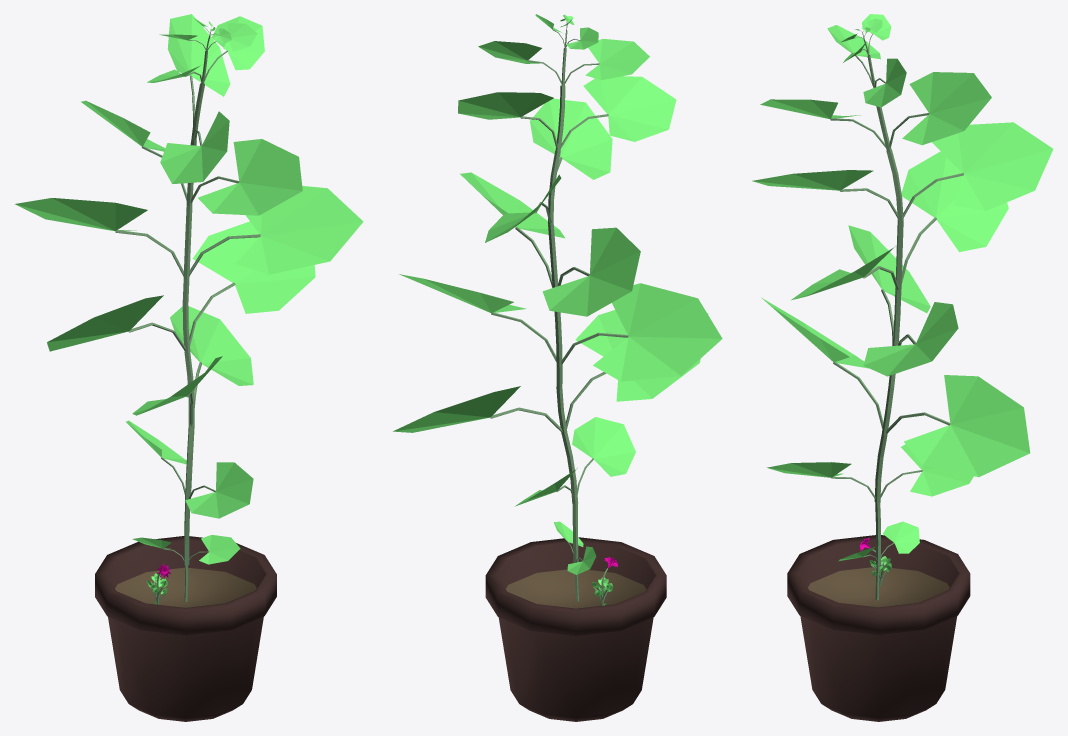
The model's file is PlantPot.glb.
The picture shows the model from 3 angles, left to right: view 1: azimuth 30°, elevation 25°; view 2: azimuth 150°, elevation 25°; view 3: azimuth 270°, elevation 25°; orthographic projection.
Parts seen in each view (by area): view 1: Newplan.002, Cylinder; view 2: Newplan.002, Cylinder; view 3: Newplan.002, Cylinder.
Part boxes in pixels (box(x1,y1,x2,y2)): Newplan.002: box(15, 14, 363, 601); Cylinder: box(95, 536, 276, 721); Newplan.002: box(393, 14, 722, 601); Cylinder: box(485, 537, 666, 721); Newplan.002: box(752, 14, 1053, 600); Cylinder: box(787, 535, 970, 721).
Size of the model in its own units: 3.46 by 7.59 by 3.04.
